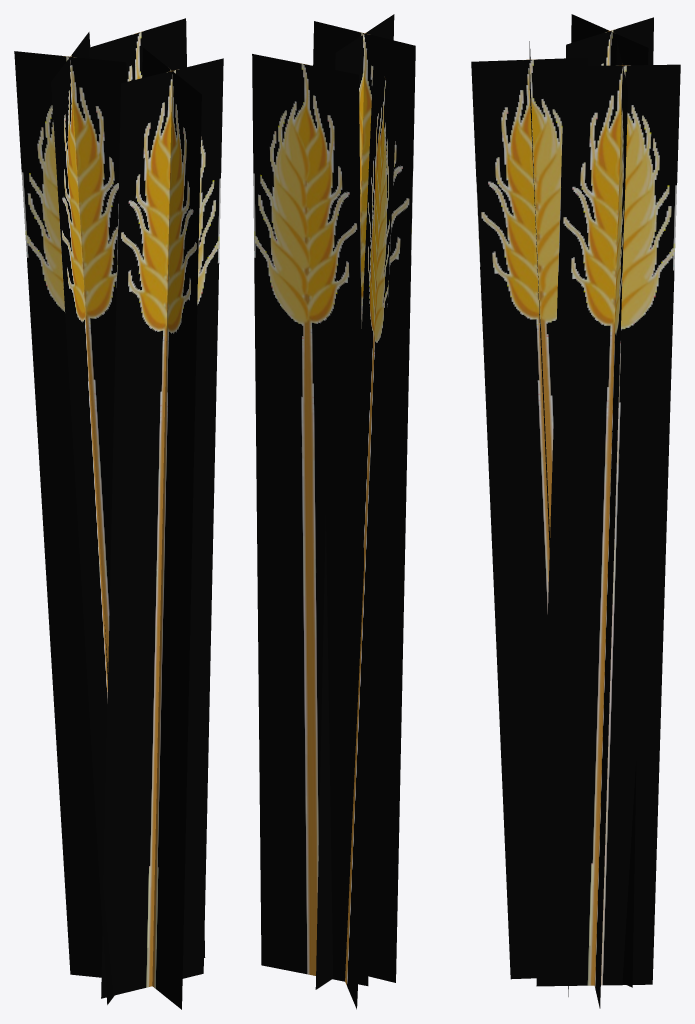
File: wheat.glb
3 views of the same model, side by side, from view 1: azimuth 30°, elevation 25°; view 2: azimuth 150°, elevation 25°; view 3: azimuth 270°, elevation 25° (orthographic).
Visible parts, largest first — view 1: wheat; view 2: wheat; view 3: wheat.
Boxes of the visible parts, bbox=[...] form: wheat: bbox=[14, 18, 223, 1009]; wheat: bbox=[252, 14, 415, 1009]; wheat: bbox=[471, 14, 680, 1008].
Size of the model in its own units: 0.2293 by 1.22 by 0.2505.
1 material, 1 textured.
